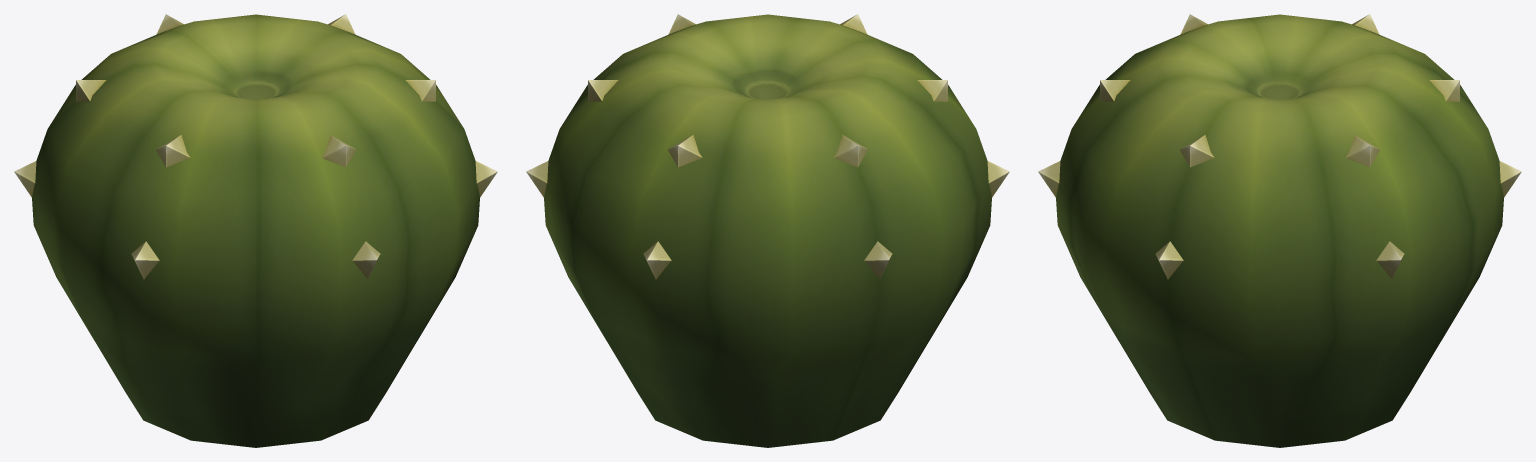
File: Desert_cactus_01.fbx
The picture shows the model from 3 angles, left to right: view 1: azimuth 30°, elevation 25°; view 2: azimuth 150°, elevation 25°; view 3: azimuth 270°, elevation 25°; orthographic projection.
Parts seen in each view (by area): view 1: Desert_cactus_01; view 2: Desert_cactus_01; view 3: Desert_cactus_01.
Part boxes in pixels (box(x1,y1,x2,y2)): Desert_cactus_01: box(14, 14, 497, 447); Desert_cactus_01: box(526, 14, 1009, 447); Desert_cactus_01: box(1038, 14, 1521, 447).
Size of the model in its own units: 115 by 92.75 by 124.
